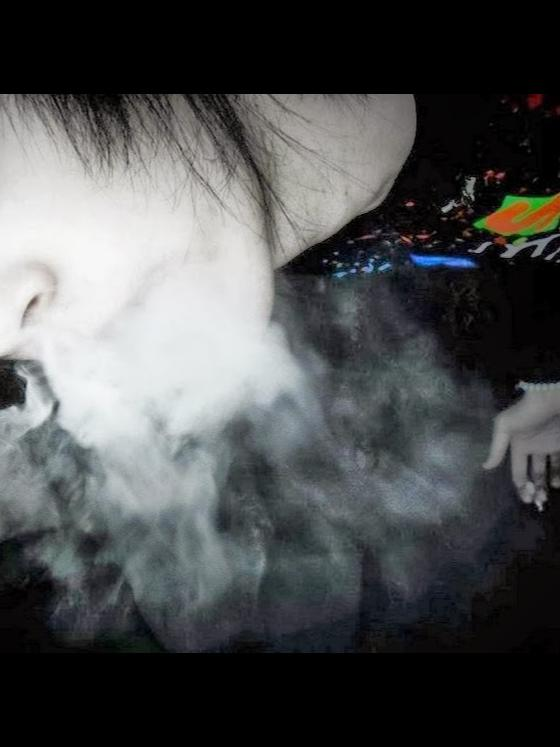Cigarette: (531, 494, 542, 511)
Smoke: (0, 282, 479, 597)
